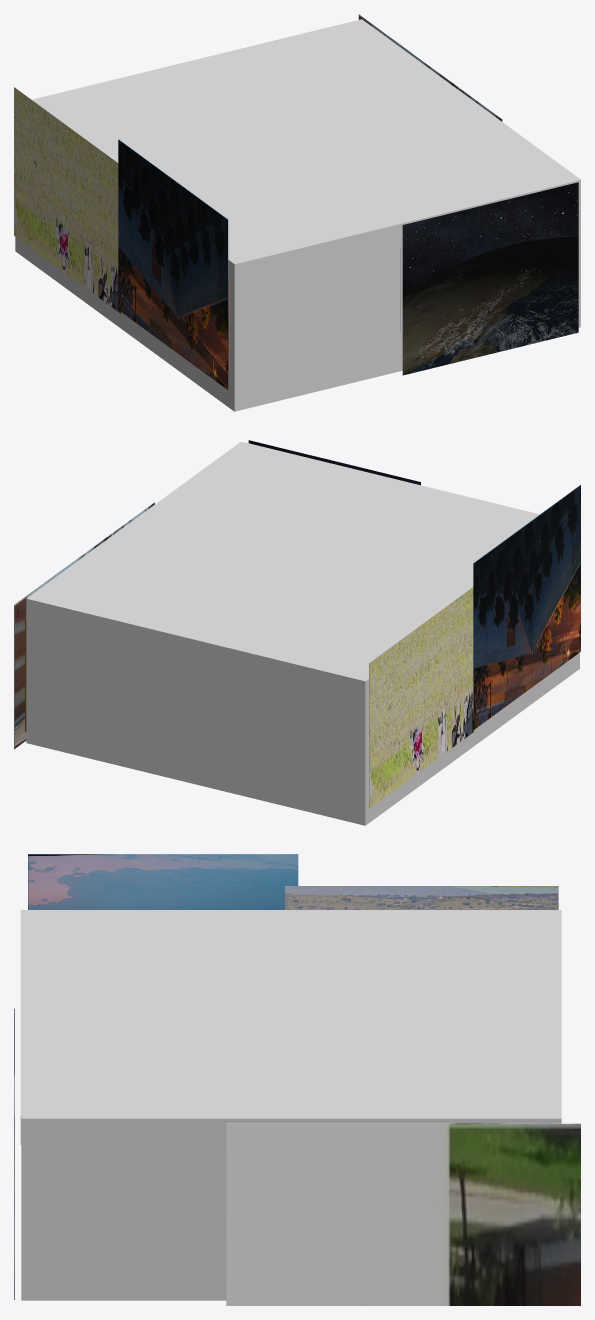
The model's file is museo.glb.
3 views of the same model, one above another, from view 1: azimuth 30°, elevation 25°; view 2: azimuth 150°, elevation 25°; view 3: azimuth 270°, elevation 25° (orthographic). The views are drawn at different scales.
Visible parts, largest first — view 1: Plane, Cube.005, Cube.006, Cube.007; view 2: Plane, Cube.006, Cube.007, Cube.002, Cube.005; view 3: Plane, Cube.002, Cube.006, Cube.007.
Part boxes in pixels (left/top/right/bottom): Plane: left=15, top=19, right=580, bottom=411; Cube.005: left=402, top=182, right=578, bottom=375; Cube.006: left=118, top=139, right=228, bottom=389; Cube.007: left=14, top=87, right=124, bottom=316; Plane: left=26, top=442, right=579, bottom=825; Cube.006: left=473, top=484, right=580, bottom=729; Cube.007: left=369, top=587, right=477, bottom=808; Cube.002: left=14, top=502, right=154, bottom=749; Cube.005: left=248, top=440, right=420, bottom=485; Plane: left=20, top=910, right=561, bottom=1300; Cube.002: left=226, top=1123, right=580, bottom=1305; Cube.006: left=28, top=854, right=298, bottom=909; Cube.007: left=285, top=886, right=558, bottom=909.
Bounding box in the file's own units: 371 × 193 × 416.
Materials: 10 (4 with a texture image).
